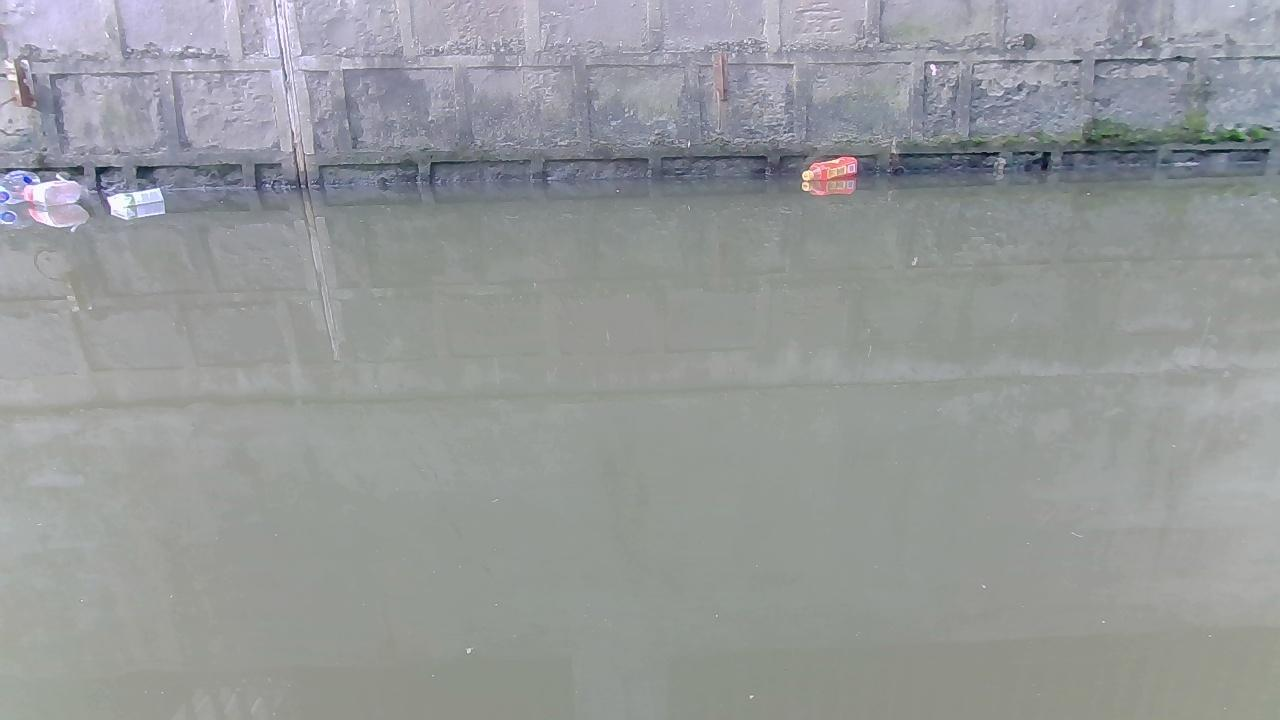bottle: (799, 149, 860, 180), (26, 177, 80, 206), (3, 167, 34, 210), (105, 186, 165, 207)
